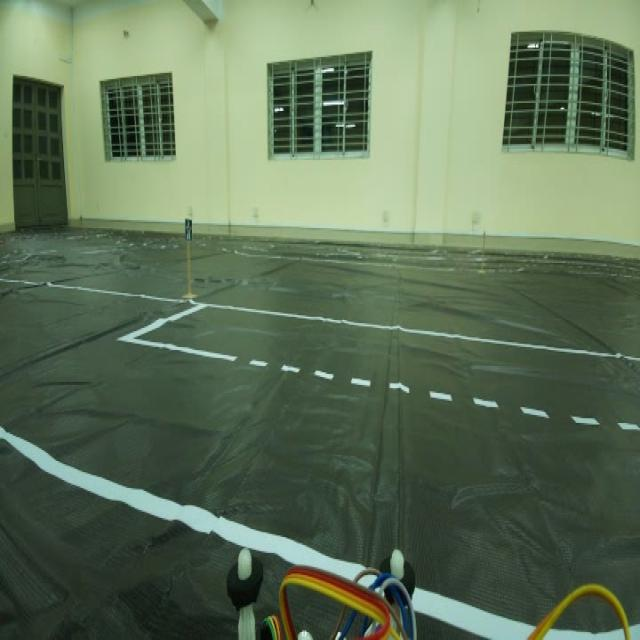highway_exit: (181, 208, 193, 254)
